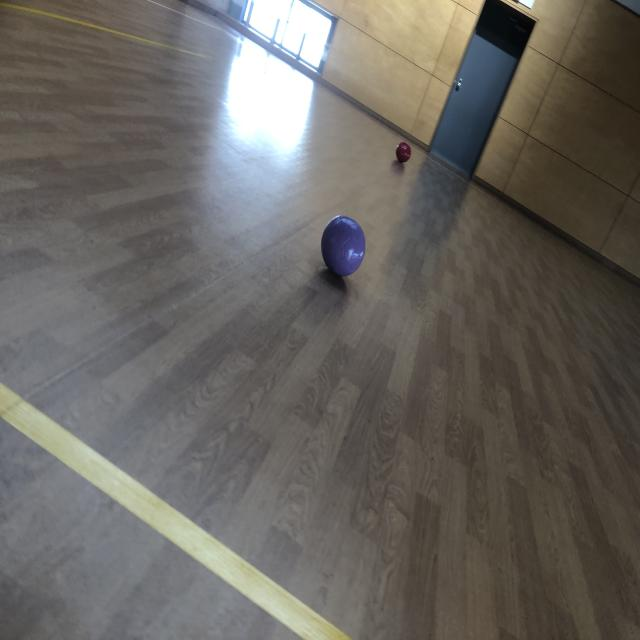purple_ball: (322, 215, 366, 276)
red_ball: (396, 142, 412, 163)
